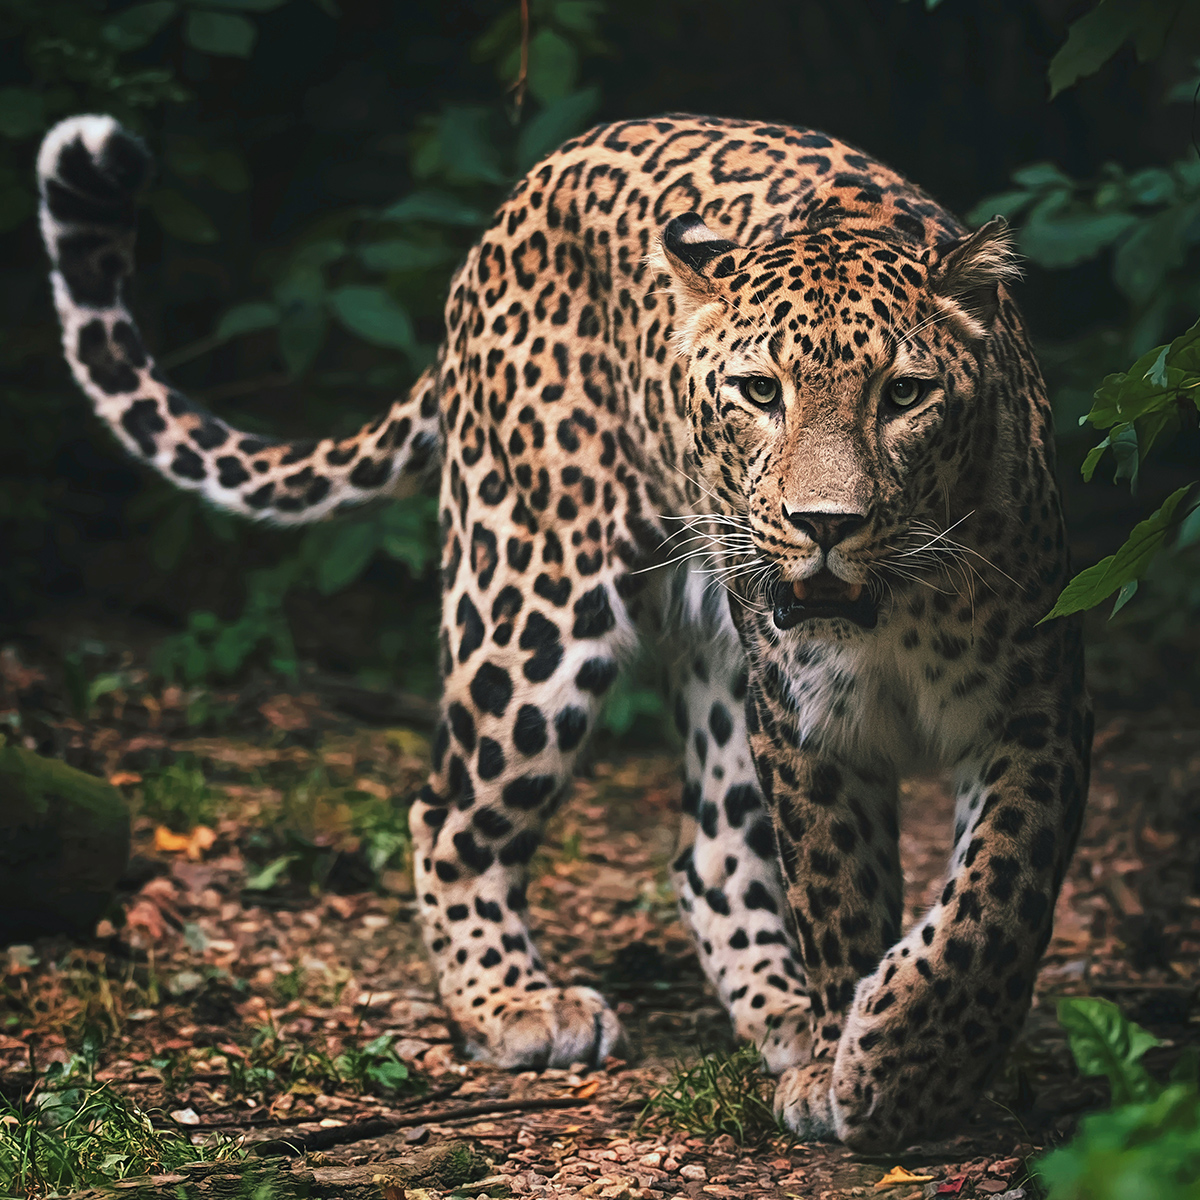Leopord: (37, 107, 1091, 1152)
